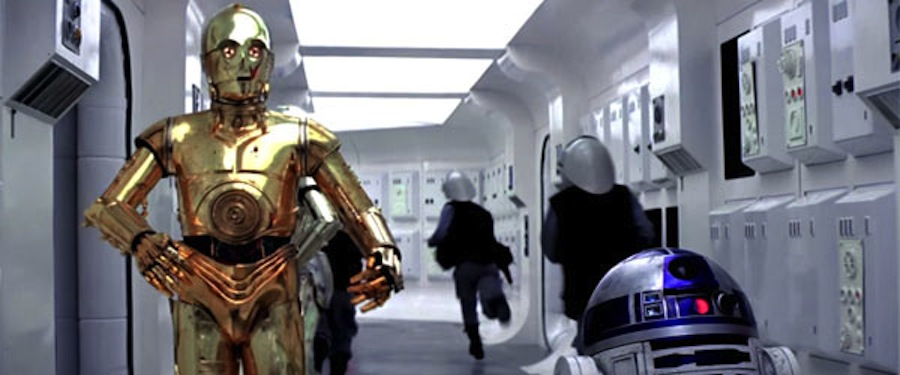r2d2: (552, 247, 803, 375)
